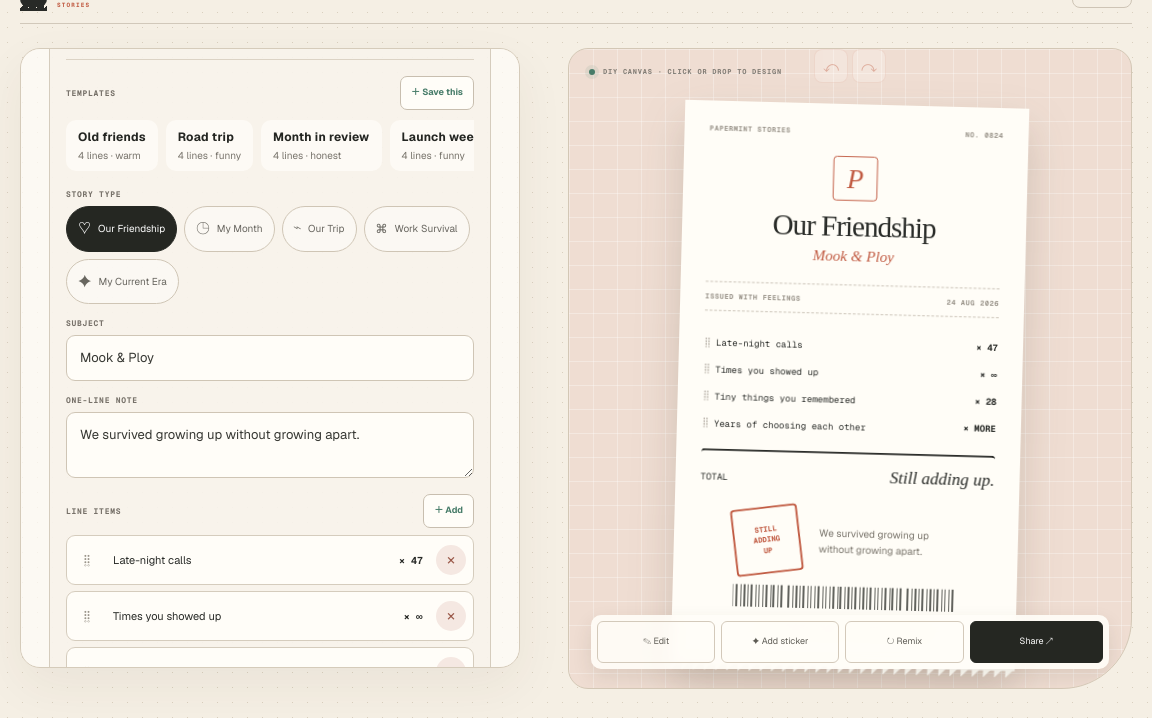
Scenario: built-in templates › applying one resets the subject instead of carrying someone else's
(page scrolled)
Replace the text in the field labelled "SUBJECT" with "MY PRIVATE SUBJECT" at (270, 358), box [66, 335, 474, 381]
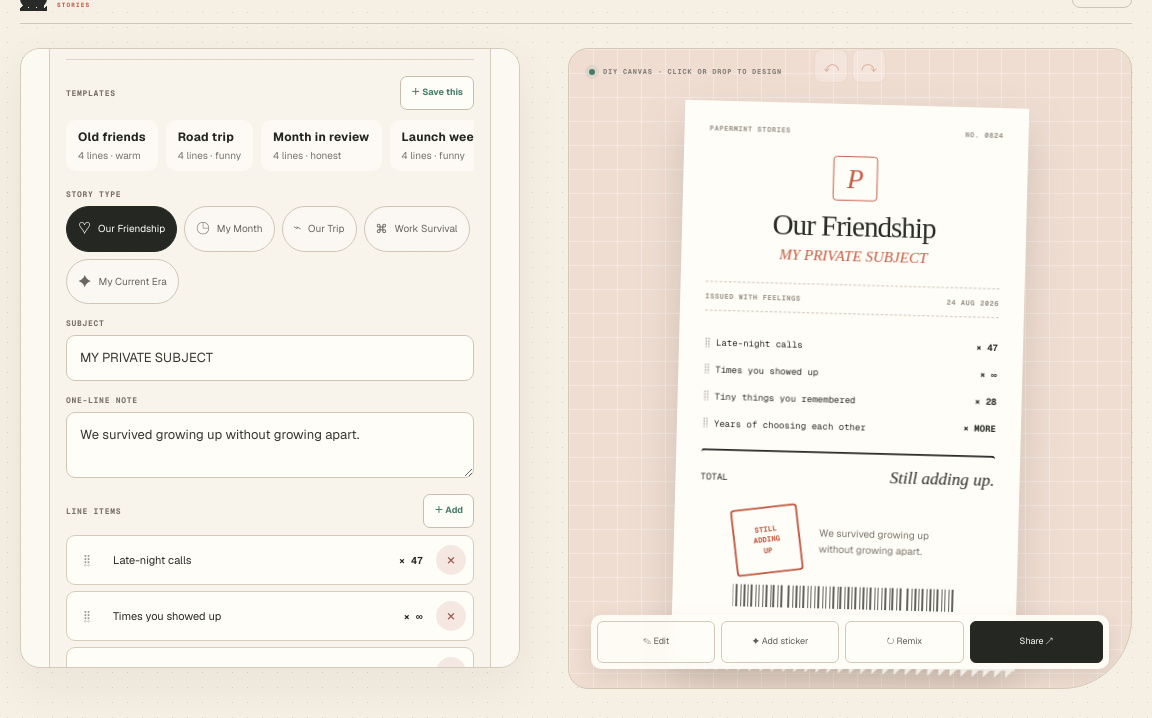
Click the button "Launch week 4 lines · funny" at (442, 146), box [390, 120, 494, 171]
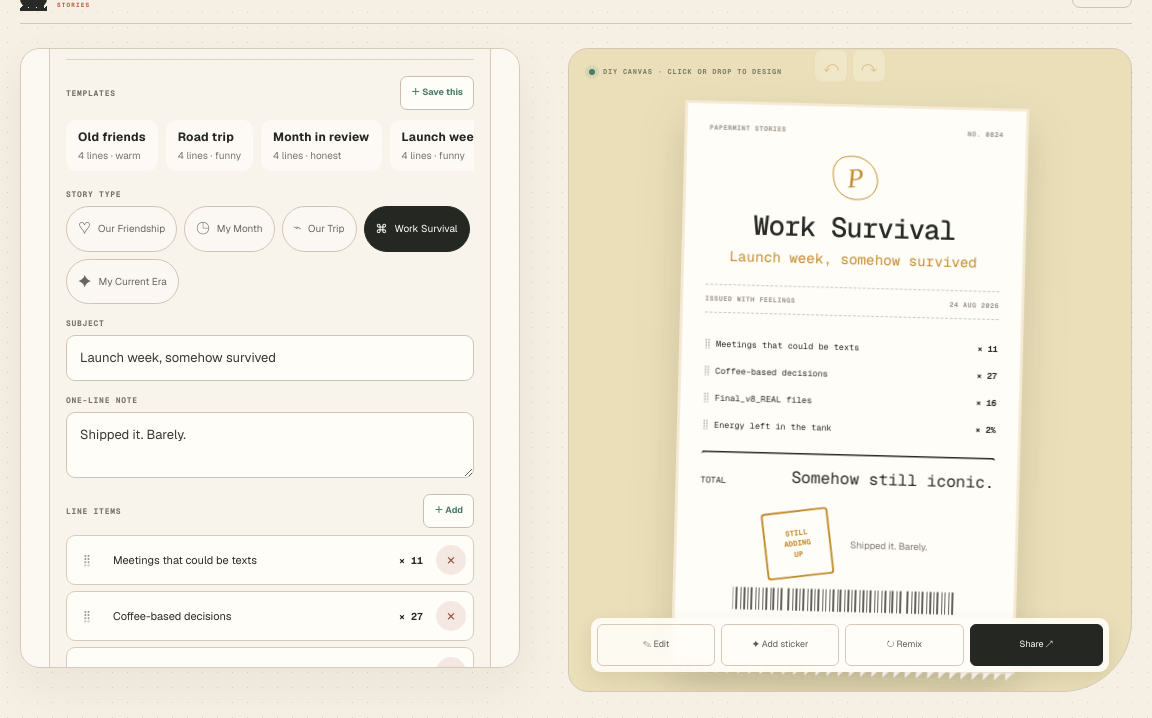
Now the text with id "story-receipt" no longer shows "MY PRIVATE SUBJECT"
